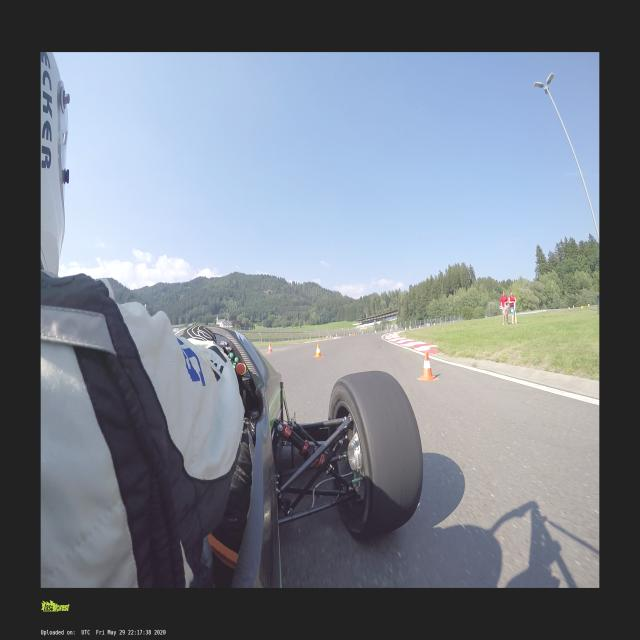orange_cone: (419, 352, 436, 380), (314, 344, 322, 356), (268, 342, 272, 352)
